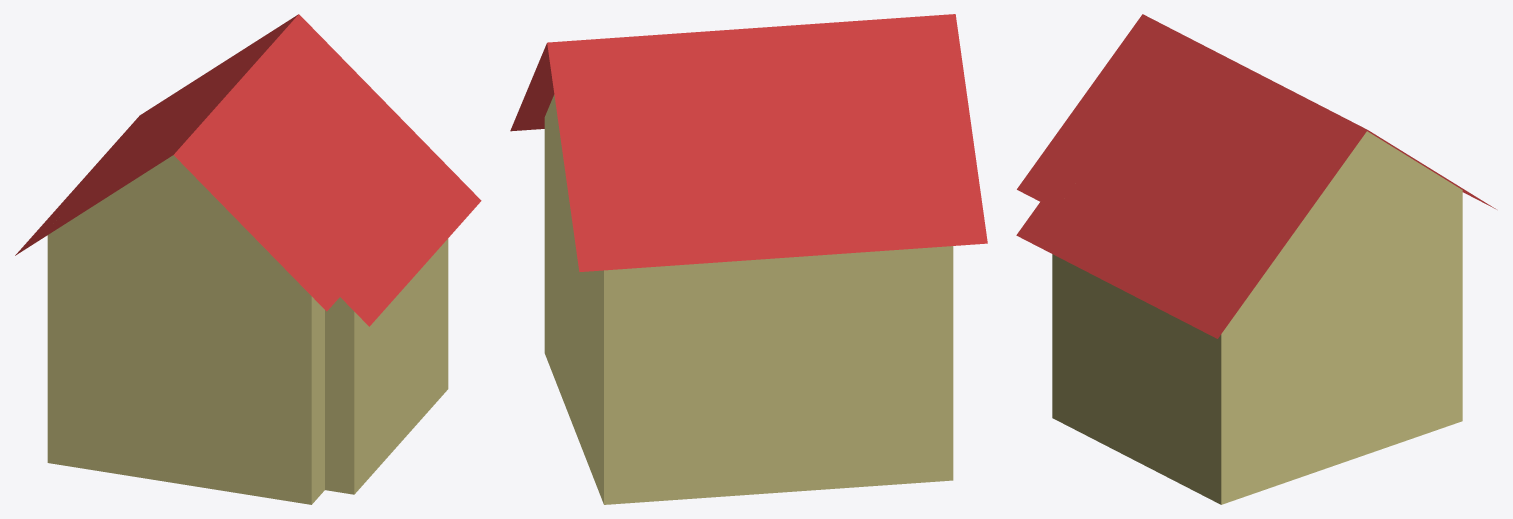
The picture shows the model from 3 angles, left to right: view 1: azimuth 30°, elevation 25°; view 2: azimuth 150°, elevation 25°; view 3: azimuth 270°, elevation 25°; orthographic projection. The views are drawn at different scales.
Size of the model in its own units: 19.66 by 18.78 by 14.53.
